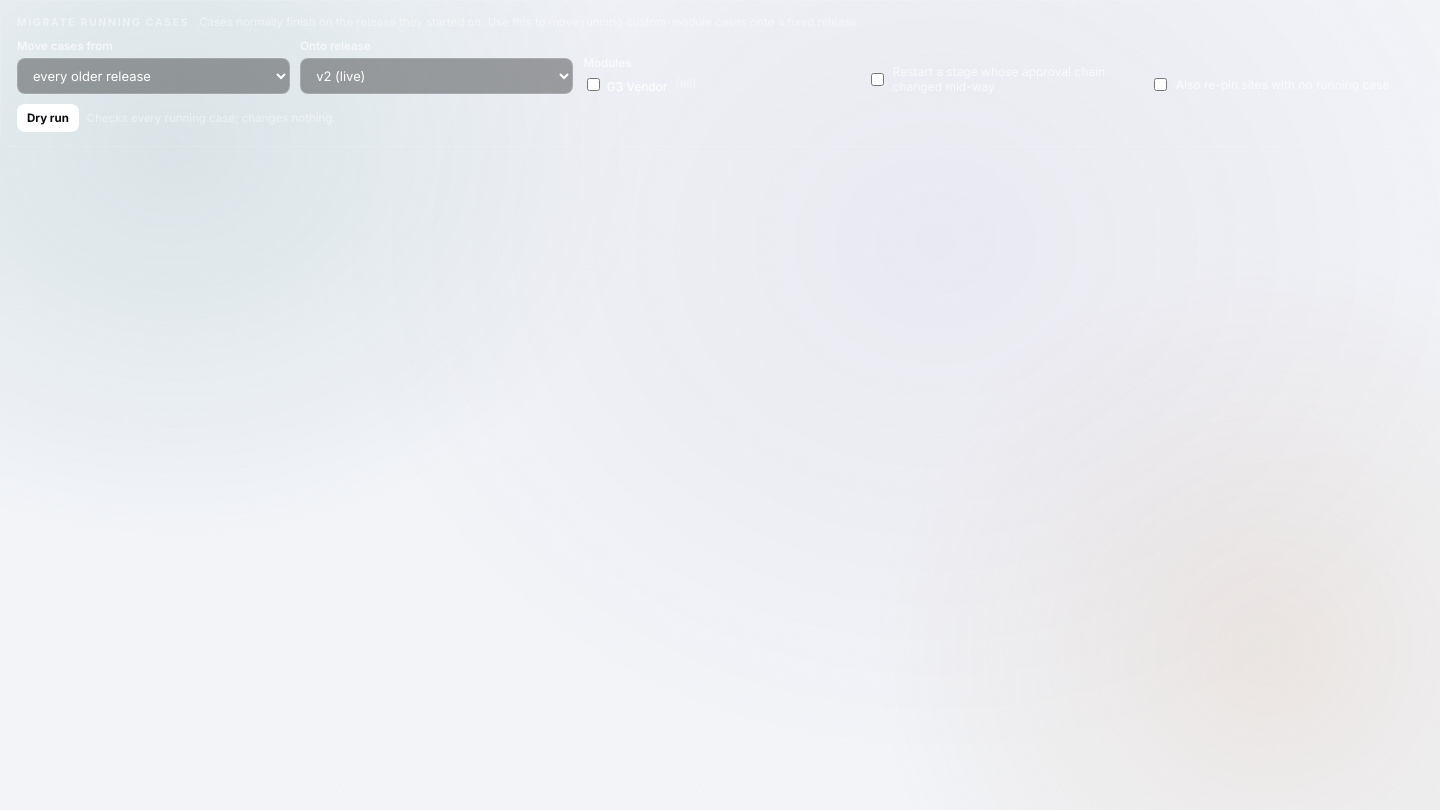
Scenario: MigrateCasesPanel › shows the backend refusal
This screenshot has width=1440, height=810.
Click the button "Dry run" at (48, 118), box x1=17 y1=104 x2=79 y2=132
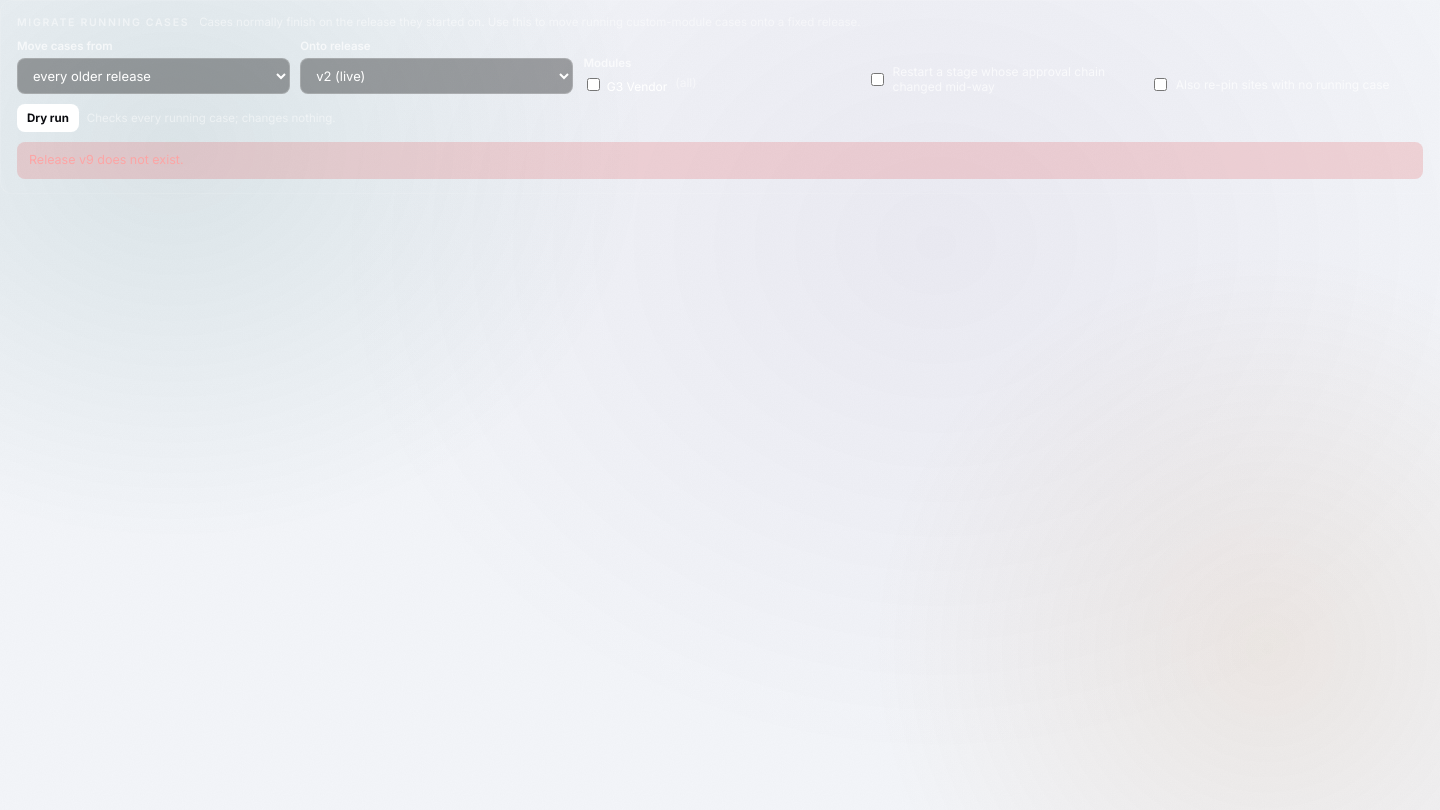
Now the message reads "Release v9 does not exist.", box x1=29 y1=152 x2=184 y2=167
